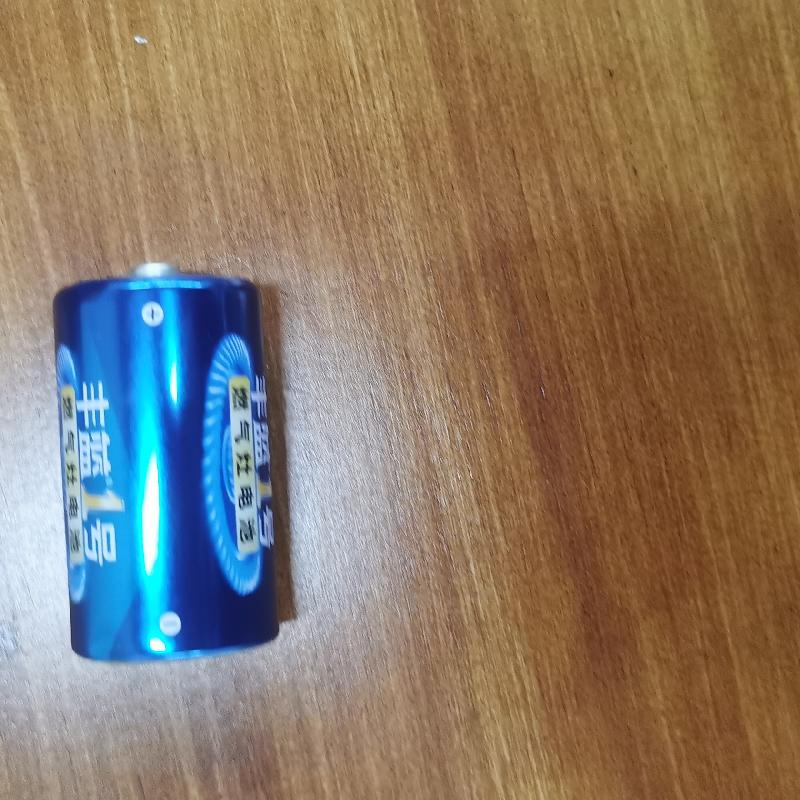battery: (44, 262, 282, 663)
